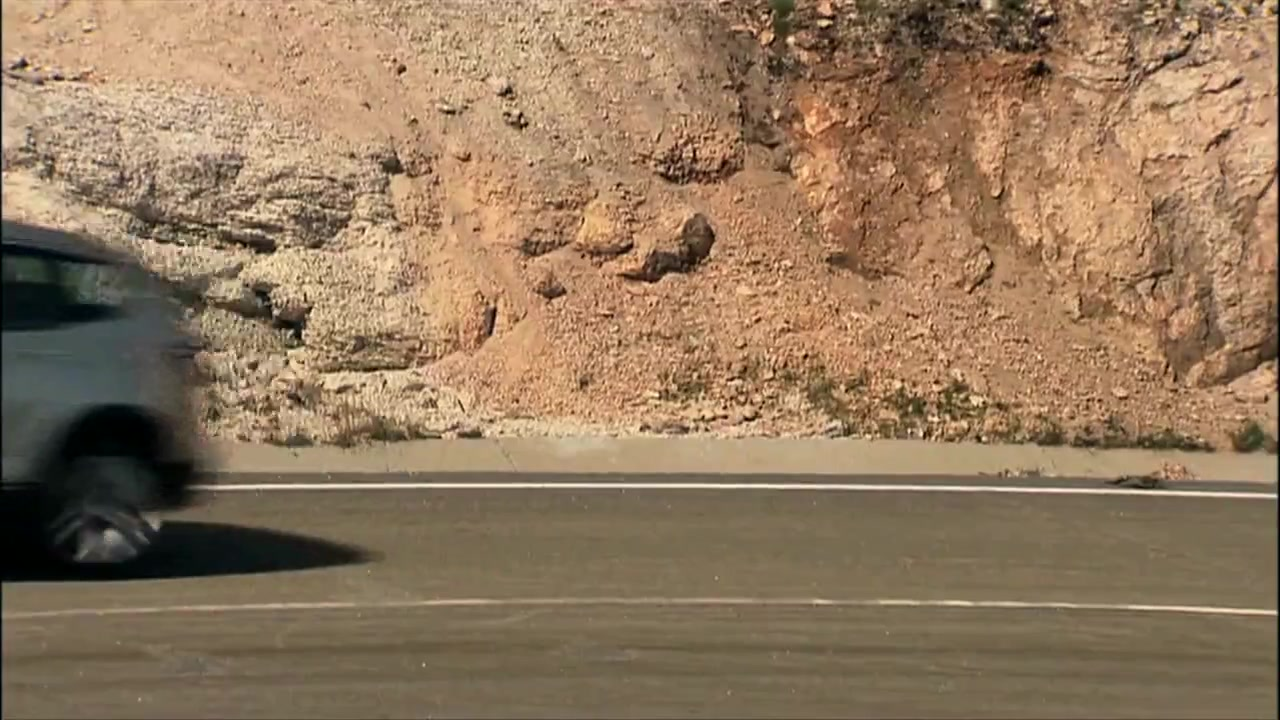car: (6, 213, 215, 581)
